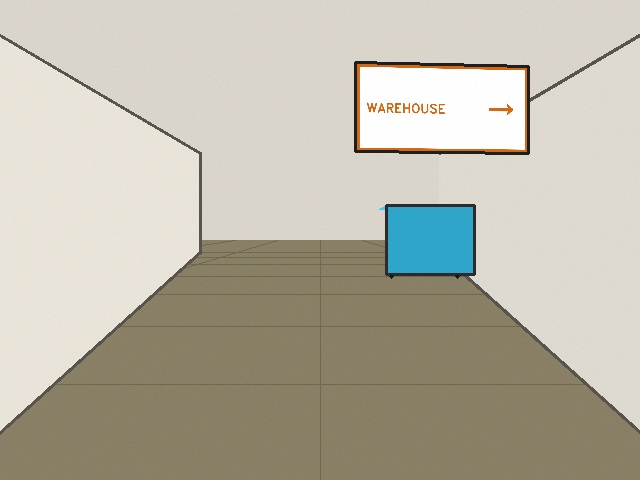cart: (379, 205, 474, 274)
directional_sign: (355, 62, 528, 153)
